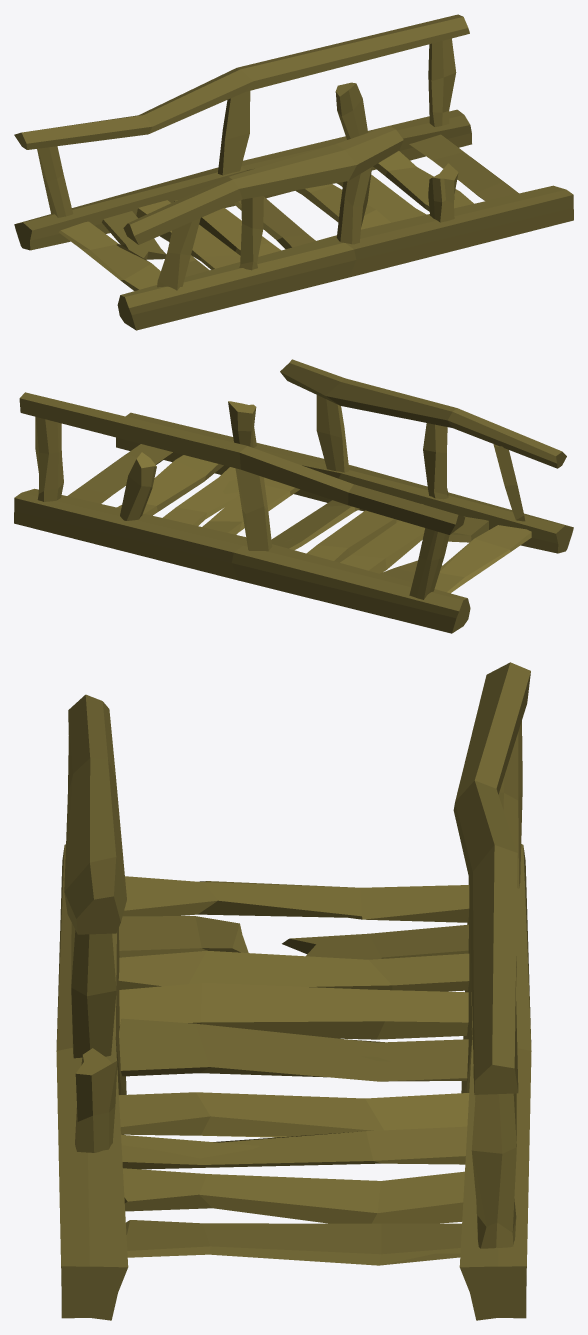
The model's file is bridge.fbx.
3 renders of one model, top to bottom at view 1: azimuth 30°, elevation 25°; view 2: azimuth 150°, elevation 25°; view 3: azimuth 270°, elevation 25°, orthographic. The views are drawn at different scales.
Visible parts, largest first — view 1: Rails, Stairs; view 2: Rails, Stairs; view 3: Stairs, Rails.
Boxes of the visible parts, bbox=[...] form: Rails: bbox=[14, 14, 573, 330]; Stairs: bbox=[59, 134, 518, 290]; Rails: bbox=[14, 359, 573, 633]; Stairs: bbox=[67, 444, 531, 593]; Stairs: bbox=[118, 876, 469, 1265]; Rails: bbox=[56, 662, 531, 1320].
Size of the model in its own units: 1547 by 433 by 713.
